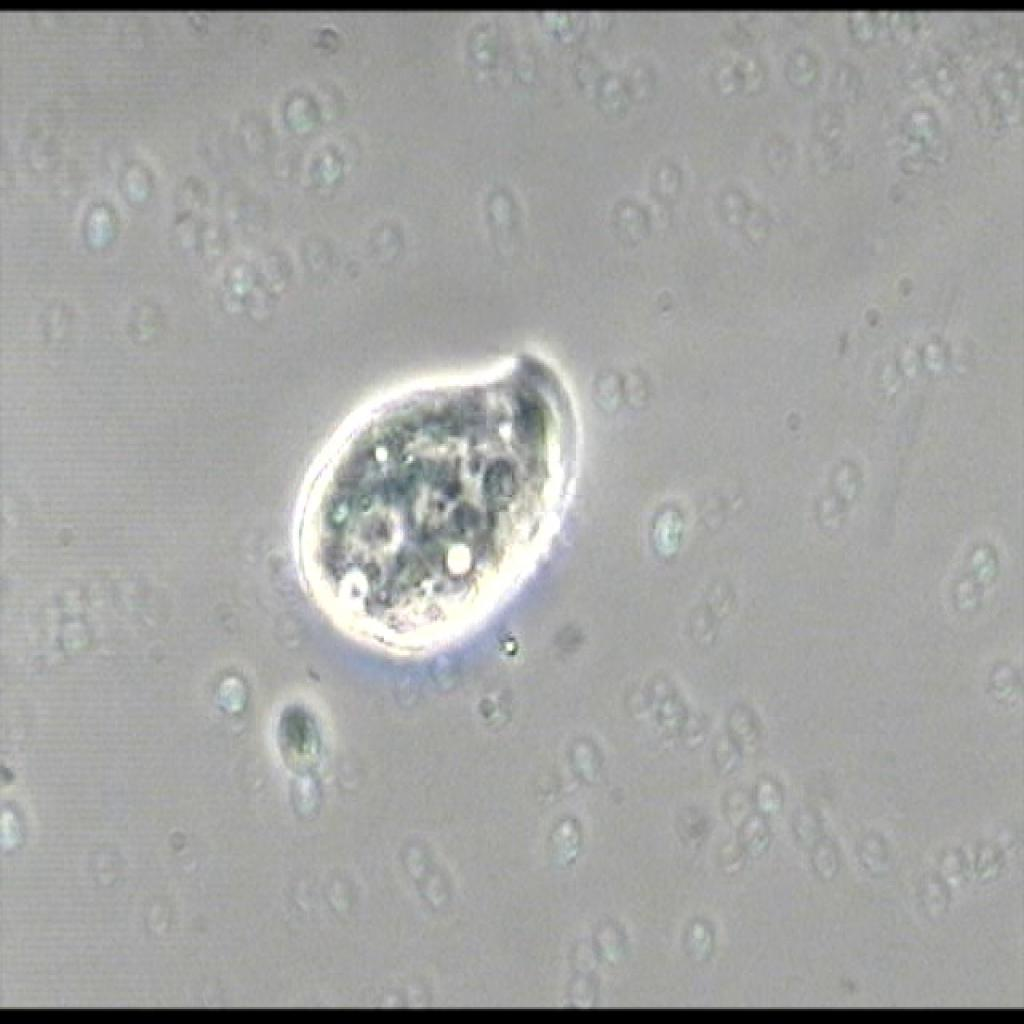Chilodonella: (217, 294, 623, 685)
